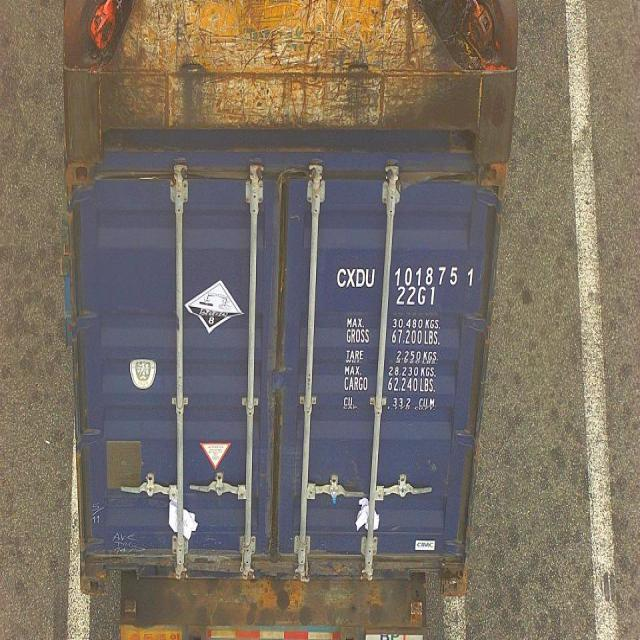ISO: (398, 284, 437, 306)
container_number: (334, 266, 476, 288)
